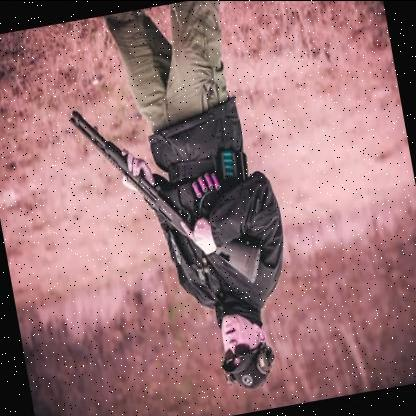rifle: (66, 78, 263, 307)
